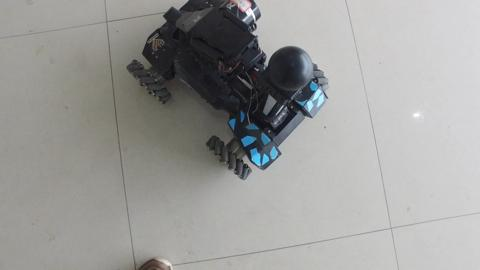chariot: (113, 7, 325, 174)
